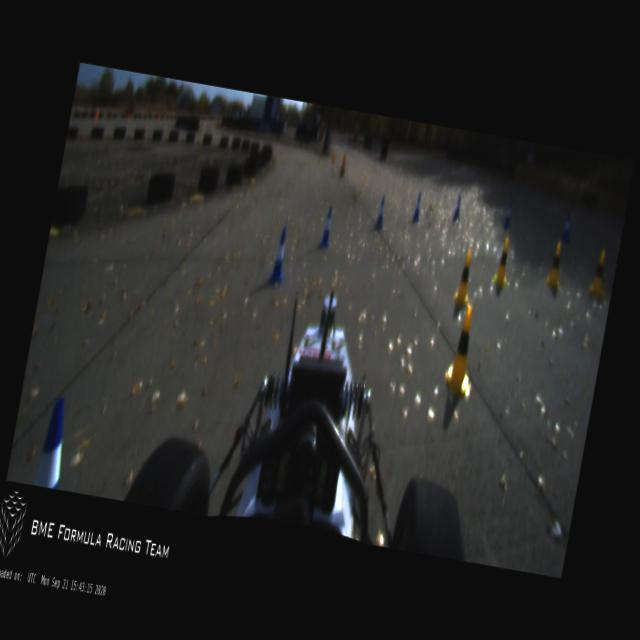blue_cone: (33, 394, 75, 489), (268, 230, 290, 280), (317, 206, 335, 248), (560, 211, 574, 244), (374, 196, 386, 228), (411, 194, 423, 222), (452, 193, 462, 220), (503, 200, 513, 224)
yellow_cone: (442, 306, 481, 396), (451, 250, 474, 306), (492, 237, 514, 286), (544, 240, 566, 288), (588, 248, 610, 296)
